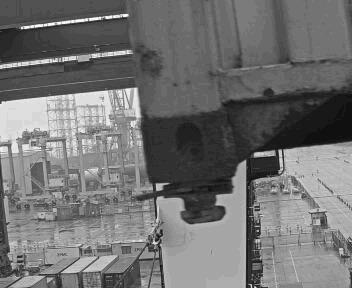twist_lock_1: (307, 128, 333, 147)
